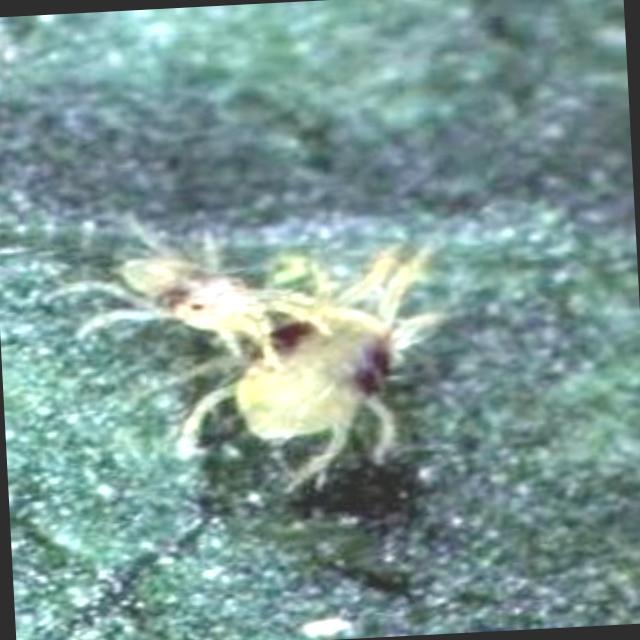spider mite: (230, 233, 475, 498), (76, 218, 316, 412)
